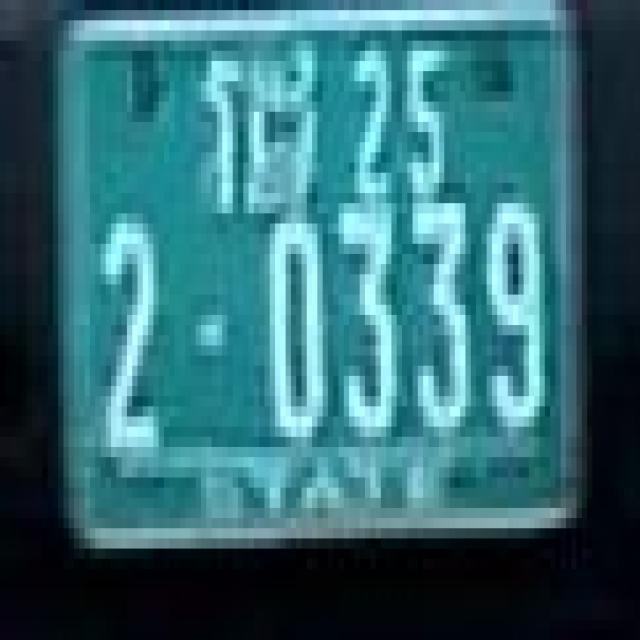State: (201, 41, 321, 218)
